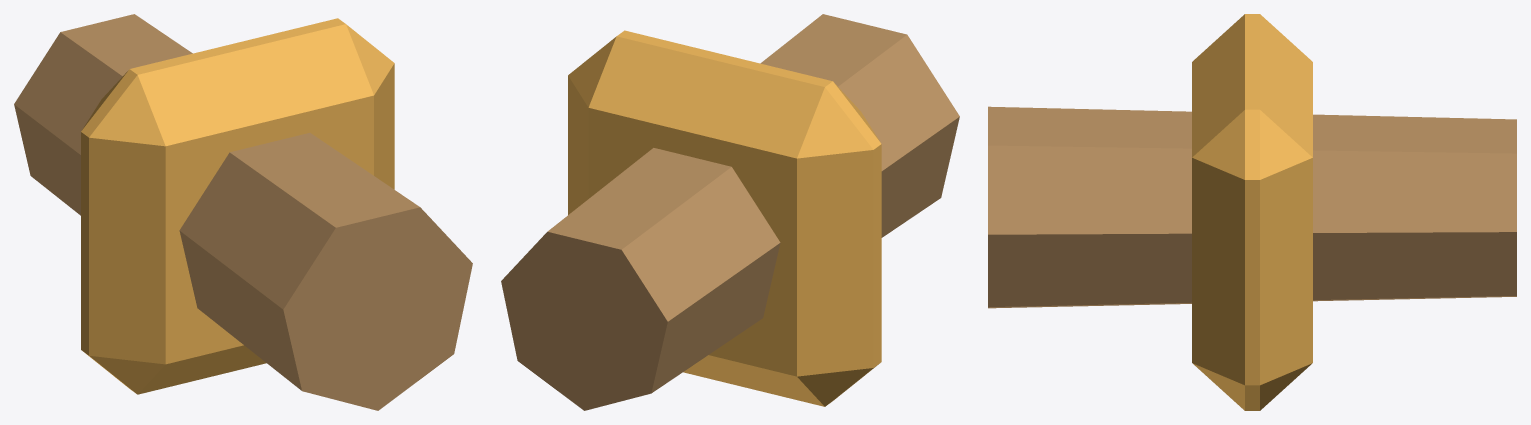
The model's file is Tool_Stamp.fbx.
3 renders of one model, left to right at view 1: azimuth 30°, elevation 25°; view 2: azimuth 150°, elevation 25°; view 3: azimuth 270°, elevation 25°, orthographic. The views are drawn at different scales.
Visible parts, largest first — view 1: Tool_Stamp; view 2: Tool_Stamp; view 3: Tool_Stamp.
Boxes of the visible parts, <box> form: Tool_Stamp: <box>14,14,472,410</box>; Tool_Stamp: <box>501,14,959,410</box>; Tool_Stamp: <box>988,14,1516,410</box>.
Bounding box in the file's own units: 0.1886 × 0.1886 × 0.3.
